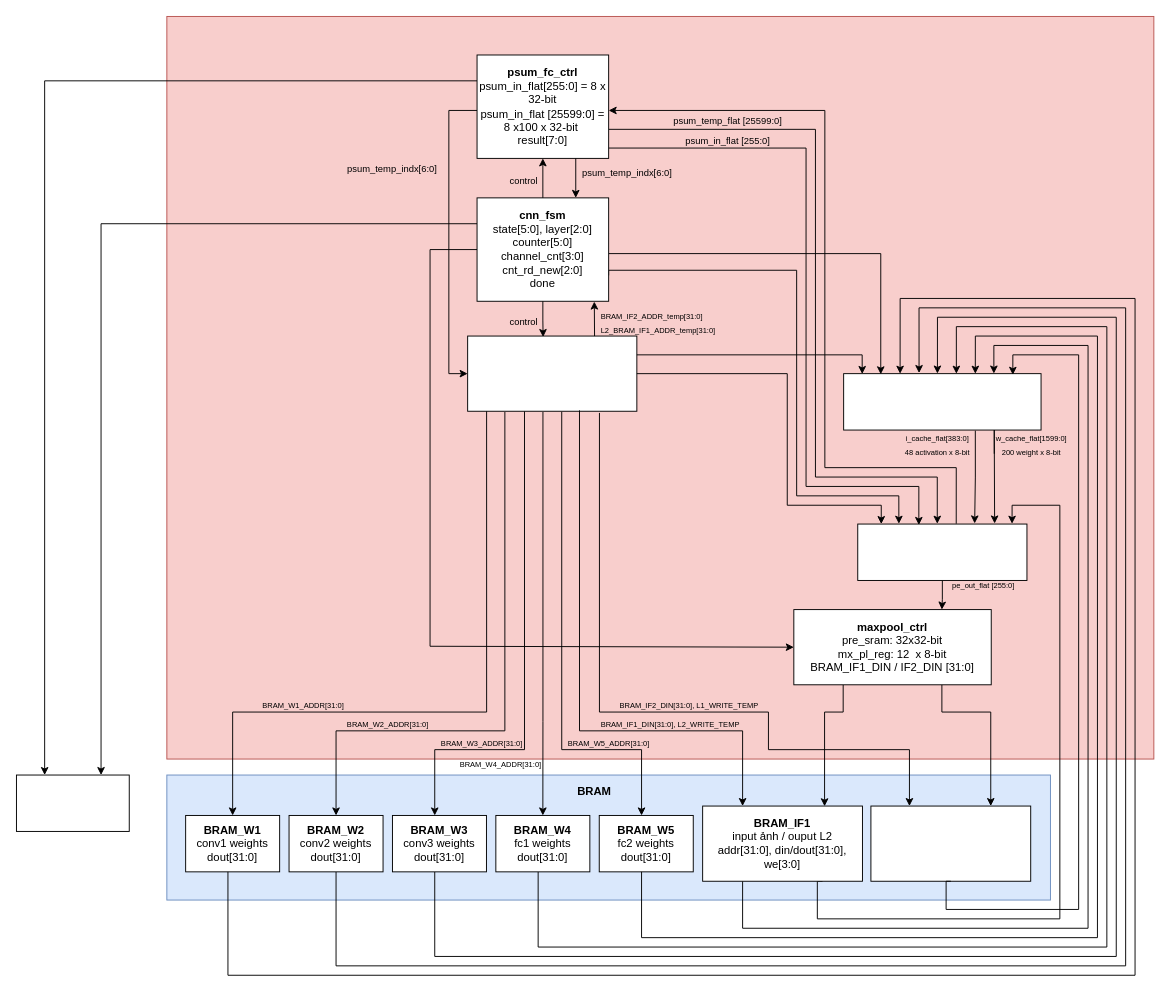
Image size: 1170x999. Some labels were removed from this diagram. Here are the shapes that lost their labels. From the top down, the centre of each, then its label:
At point 552,373: "addr_gen BRAM_ADDR[31:0], BRAM_WE[3:0], BRAM_EN bit_select[4:0]".
At point 942,401: "cache_ctrl i_cache_flat[383:0] = 48 x 8-bit w_cache_flat[1599:0] = 200 x 8-bit".
At point 942,551: "pe_array 8 PE song song pe_out_flat[255:0] = 8 x 32-bit".
At point 950,843: "BRAM_IF2 output L1 / input L2 addr[31:0], din/dout[31:0], we[3:0]".
